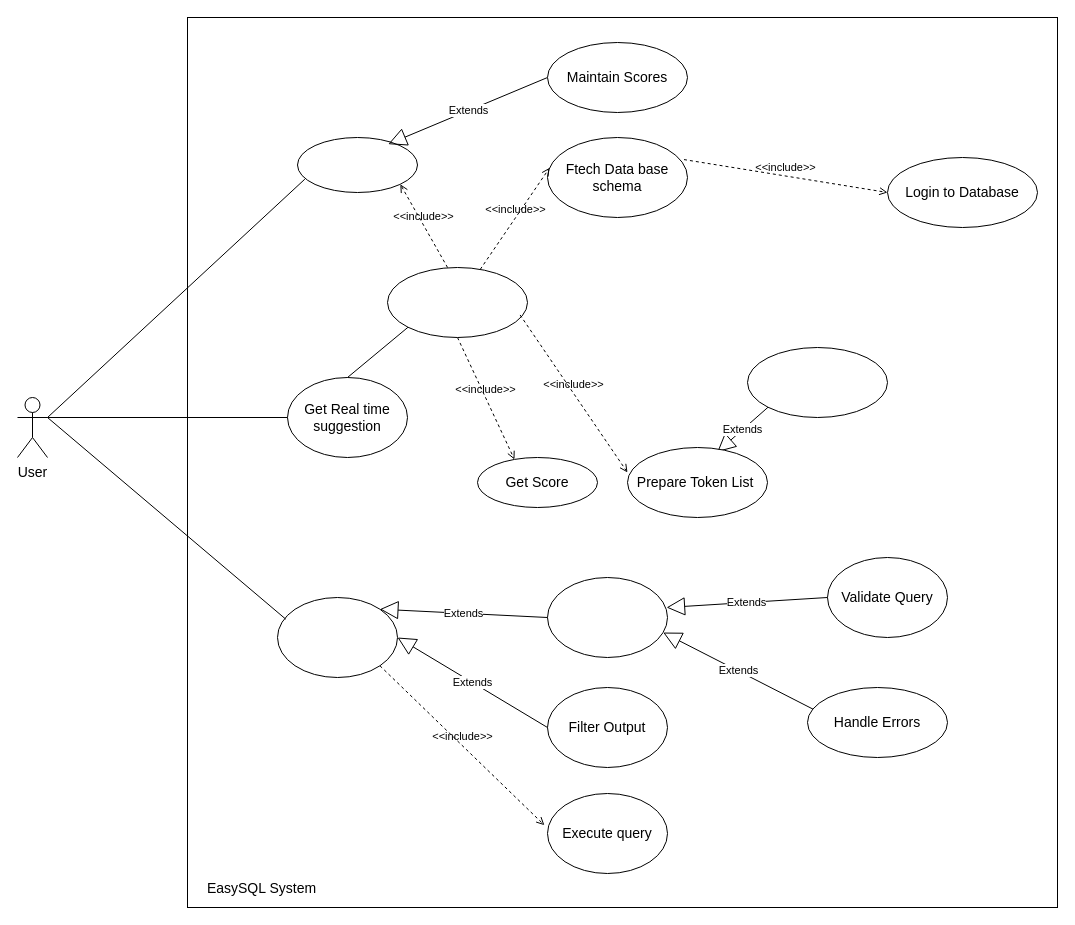
Some shapes in this 1075 by 925 pixel diagram are drawn without their labels. The shapes that lost their labels are listed below. From the top down, each one's centre as x and y in pixels, then its label:
At [357,164]: "Write Query".
At [457,302]: "Genarate Suggestions".
At [817,382]: "Read Quries file".
At [337,637]: "Show output".
At [607,617]: "Query Correction".
